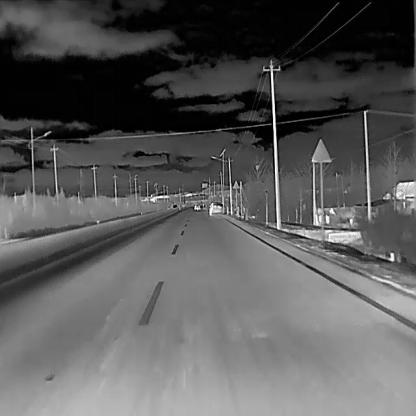car: (208, 200, 224, 215), (193, 202, 199, 212)
